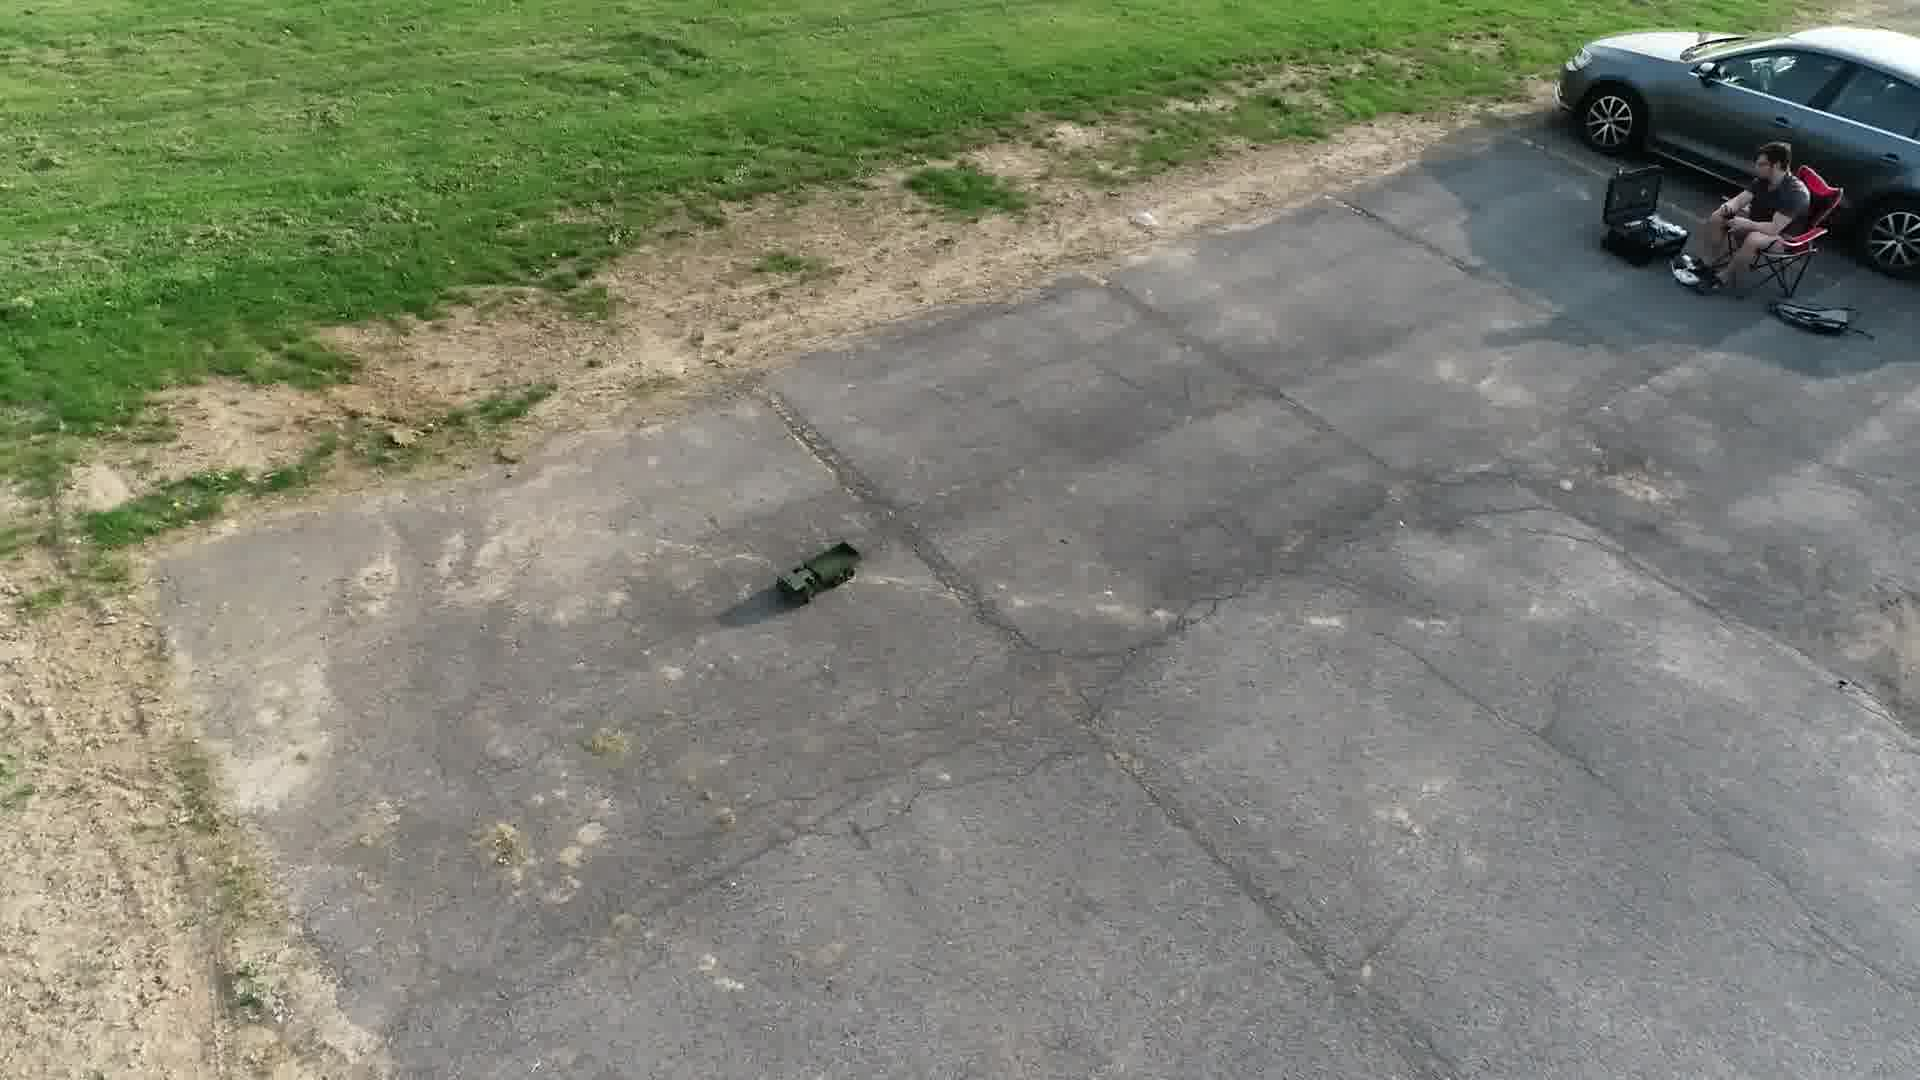transporter9: (773, 534, 866, 609)
